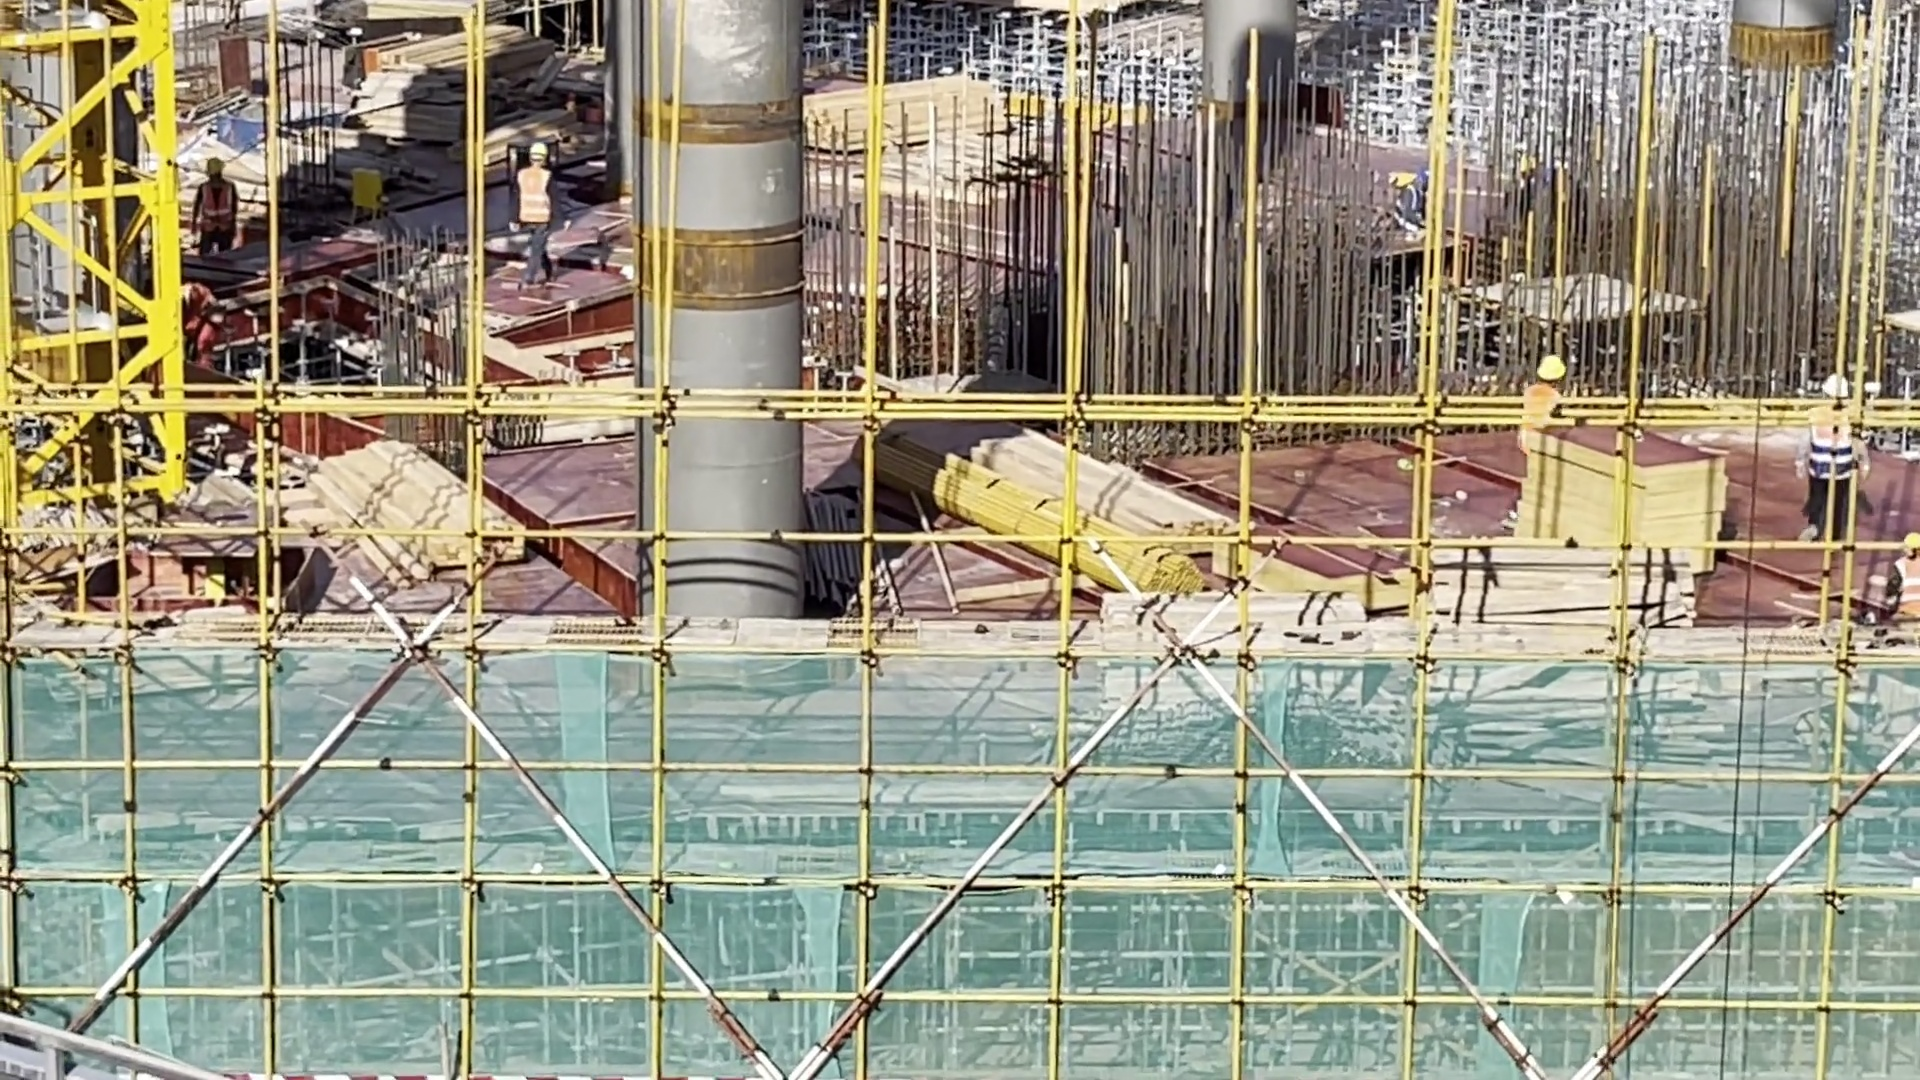board: (1573, 424, 1735, 569), (358, 31, 548, 133)
helmet: (528, 140, 548, 158), (205, 161, 228, 171)
person: (1808, 370, 1867, 546), (511, 139, 559, 288), (190, 157, 243, 258), (1523, 356, 1571, 468)
vest: (1815, 410, 1853, 482), (517, 166, 550, 224)
wood: (943, 435, 1238, 596), (332, 433, 531, 566), (806, 83, 1012, 151)
